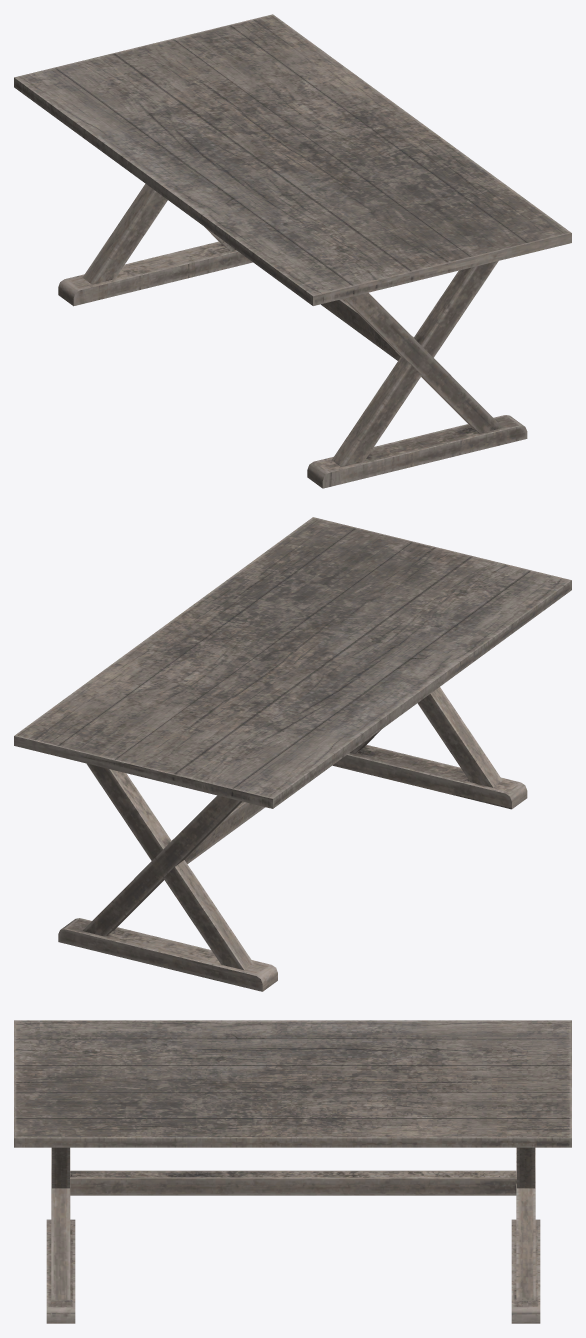
File: SM_Table_2.FBX
3 renders of one model, top to bottom at view 1: azimuth 30°, elevation 25°; view 2: azimuth 150°, elevation 25°; view 3: azimuth 270°, elevation 25°, orthographic. The views are drawn at different scales.
Visible parts, largest first — view 1: SM_Table_2; view 2: SM_Table_2; view 3: SM_Table_2.
Part boxes in pixels (<box>): SM_Table_2: <box>14,14,571,488</box>; SM_Table_2: <box>14,517,571,991</box>; SM_Table_2: <box>14,1020,571,1323</box>.
Bounding box in the file's own units: 110 × 85.99 × 220.
